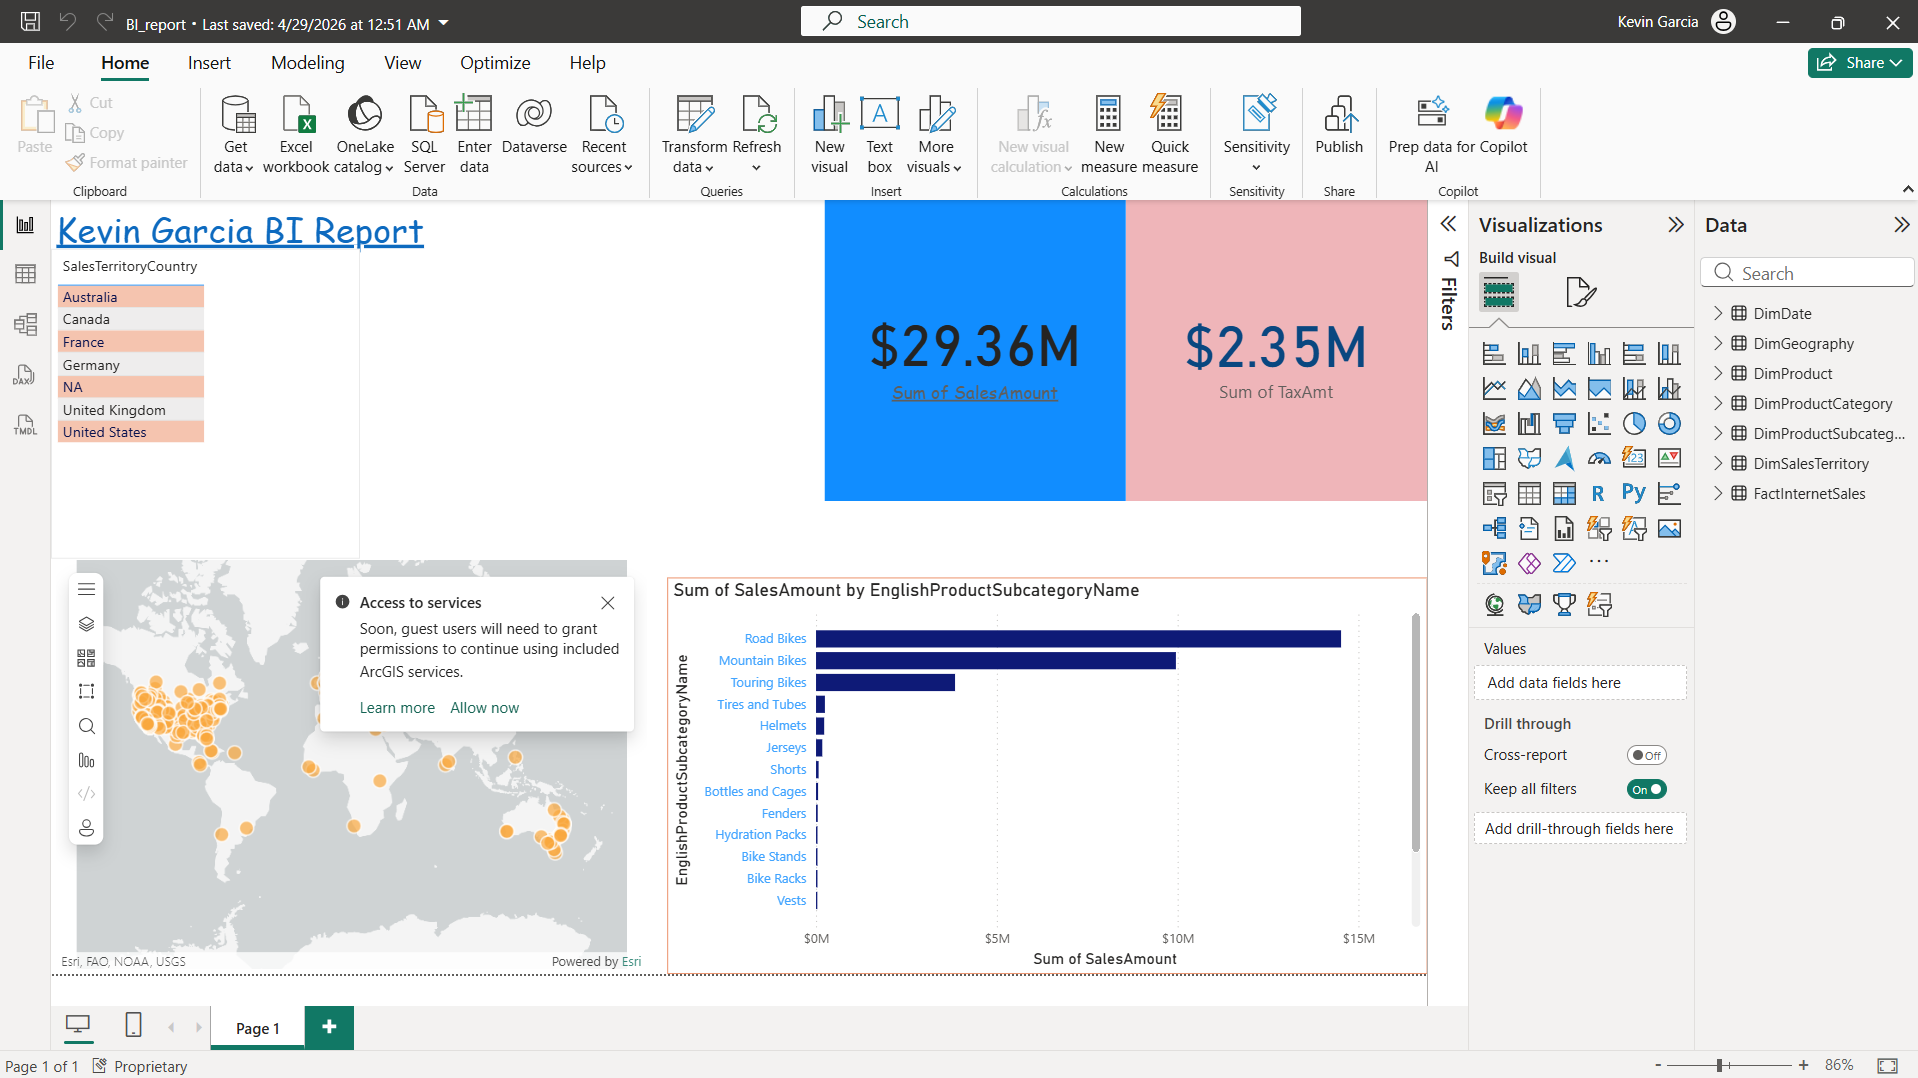

This screenshot's page, from the dashboard's own definition file:
{"tool":"powerbi","page":{"name":"Page 1","canvas":[1280,720],"ordinal":0},"visuals":[{"type":"card","fields":{"Values":["Sum(FactInternetSales.SalesAmount)"]},"box":[720.2,0,279.9,279.9],"z":0},{"type":"card","fields":{"Values":["Sum(FactInternetSales.TaxAmt)"]},"box":[1000.1,0,279.9,279.9],"z":1000},{"type":"textbox","box":[0,0,417.4,300.4],"z":2000},{"type":"esriVisual","fields":{"Location":["DimGeography.City"]},"box":[0,310.1,559.8,410.2],"z":3000},{"type":"clusteredBarChart","fields":{"Category":["DimProductSubcategory.EnglishProductSubcategoryName"],"Y":["Sum(FactInternetSales.SalesAmount)"]},"box":[573.1,351.1,707,369.2],"z":4000},{"type":"tableEx","fields":{"Values":["DimSalesTerritory.SalesTerritoryCountry"]},"box":[0,45.8,287.1,288.3],"z":5000}]}

Visuals, with their boxes on the page's 1280x720 design canvas (x1, y1, x2, y2). These are canvas units, not pixel positions in the 1918x1078 screenshot, which may show the page scaled, cropped or inside an application window:
card - Sum(FactInternetSales.SalesAmount): x1=720 y1=0 x2=1000 y2=280
card - Sum(FactInternetSales.TaxAmt): x1=1000 y1=0 x2=1280 y2=280
textbox: x1=0 y1=0 x2=417 y2=300
esriVisual - DimGeography.City: x1=0 y1=310 x2=560 y2=720
clusteredBarChart - DimProductSubcategory.EnglishProductSubcategoryName x Sum(FactInternetSales.SalesAmount): x1=573 y1=351 x2=1280 y2=720
tableEx - DimSalesTerritory.SalesTerritoryCountry: x1=0 y1=46 x2=287 y2=334
